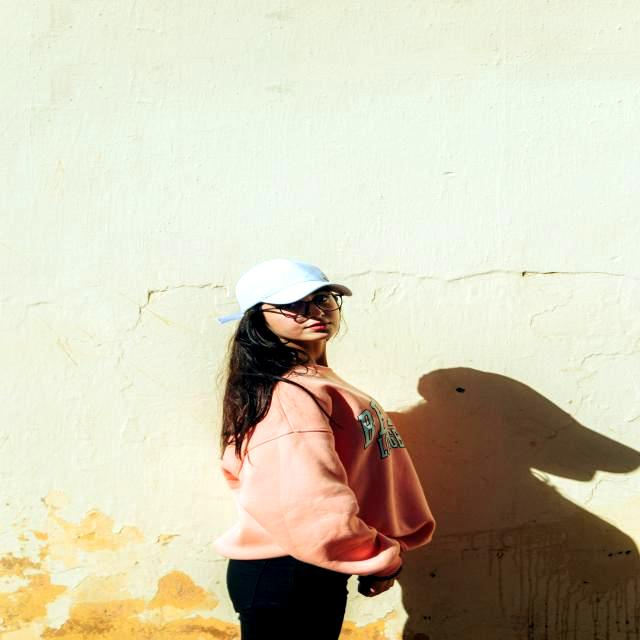no_hard_hat: (228, 259, 339, 319)
person: (215, 260, 435, 640)
